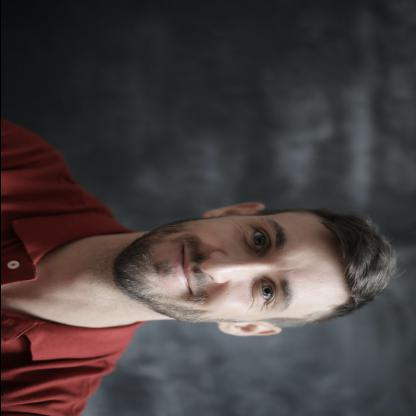Eye: (251, 276, 276, 307), (245, 226, 268, 255)
Mouth: (174, 242, 193, 296)
Nose: (199, 251, 261, 283)
